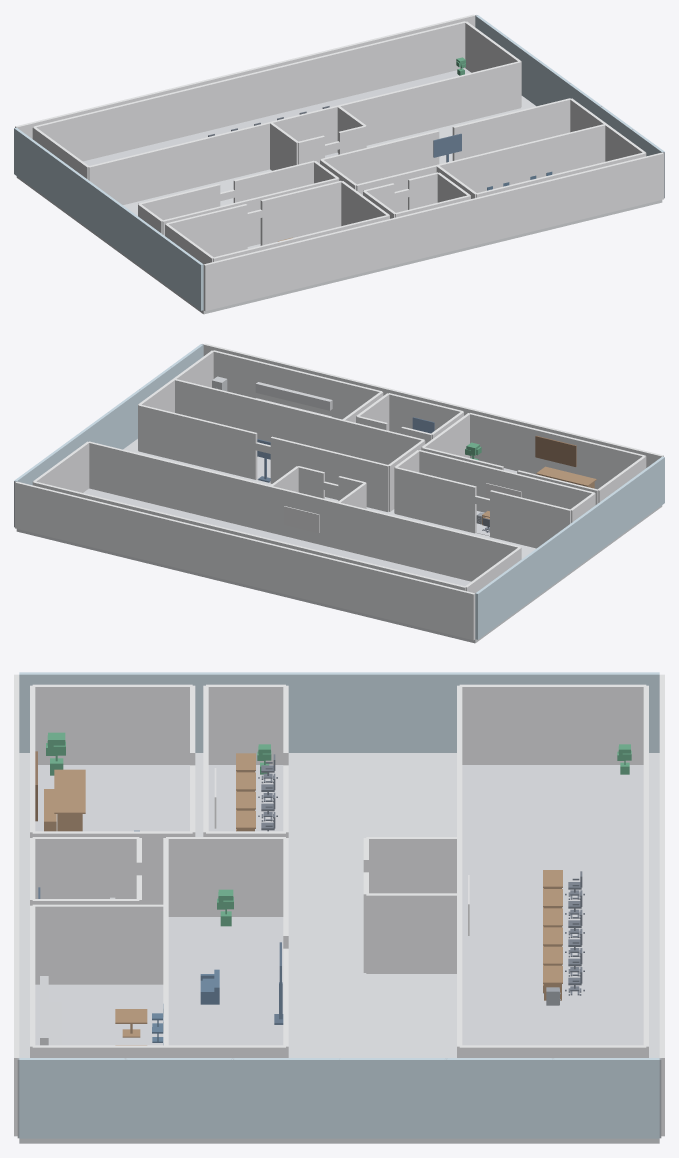
The model's file is floor_1.glb.
The picture shows the model from 3 angles, top to bottom: view 1: azimuth 30°, elevation 25°; view 2: azimuth 150°, elevation 25°; view 3: azimuth 270°, elevation 25°; orthographic projection. The views are drawn at different scales.
Visible parts, largest first — view 1: wall_s, w_service_n, wall_w, w_service_s_a, w_service_s_b, w_showroom_s, w_showroom_n_b, wall_e, w_lobby_n_b, slab, w_showroom_n_a, w_lobby_n_a (+24 smaller); view 2: wall_n, wall_w, w_service_s_b, w_service_s_a, w_showroom_n_b, w_lobby_s, w_cafe_s, w_showroom_s, w_frontdesk_n_b, w_showroom_n_a, wall_e, w_frontdesk_s (+22 smaller); view 3: wall_e, slab, floor_service, wall_w, w_service_w, floor_showroom, w_lobby_w, w_cafe_w, w_showroom_w, floor_lobby, w_core1_e, w_security_w (+19 smaller).
Part boxes in pixels (x1,y1,x2,y2): wall_s: [203, 152, 663, 311]; w_service_n: [33, 21, 465, 161]; wall_w: [14, 127, 203, 310]; w_service_s_a: [88, 116, 297, 204]; w_service_s_b: [312, 61, 520, 145]; w_showroom_s: [356, 124, 605, 212]; w_showroom_n_b: [452, 98, 570, 160]; wall_e: [475, 15, 664, 156]; w_lobby_n_b: [260, 180, 341, 245]; slab: [16, 96, 662, 314]; w_showroom_n_a: [320, 130, 439, 184]; w_lobby_n_a: [165, 204, 247, 257]; wall_n: [15, 481, 475, 640]; wall_w: [475, 456, 664, 639]; w_service_s_b: [88, 441, 297, 532]; w_service_s_a: [311, 497, 520, 581]; w_showroom_n_b: [138, 404, 257, 479]; w_lobby_s: [470, 413, 645, 489]; w_cafe_s: [213, 350, 382, 419]; w_showroom_s: [175, 379, 424, 464]; w_frontdesk_n_b: [394, 467, 476, 533]; w_showroom_n_a: [270, 436, 389, 511]; wall_e: [14, 344, 203, 485]; w_frontdesk_s: [419, 450, 594, 512]; wall_e: [19, 1058, 659, 1138]; slab: [19, 753, 659, 1143]; floor_service: [462, 765, 643, 1045]; wall_w: [19, 672, 659, 752]; w_service_w: [459, 684, 646, 764]; floor_showroom: [168, 917, 283, 1045]; w_lobby_w: [32, 684, 192, 764]; w_cafe_w: [32, 904, 165, 984]; w_showroom_w: [166, 837, 285, 916]; floor_lobby: [35, 765, 189, 831]; w_core1_e: [366, 893, 459, 973]; w_security_w: [32, 837, 139, 898].
Size of the model in its own units: 34.4 by 3.55 by 24.4.
